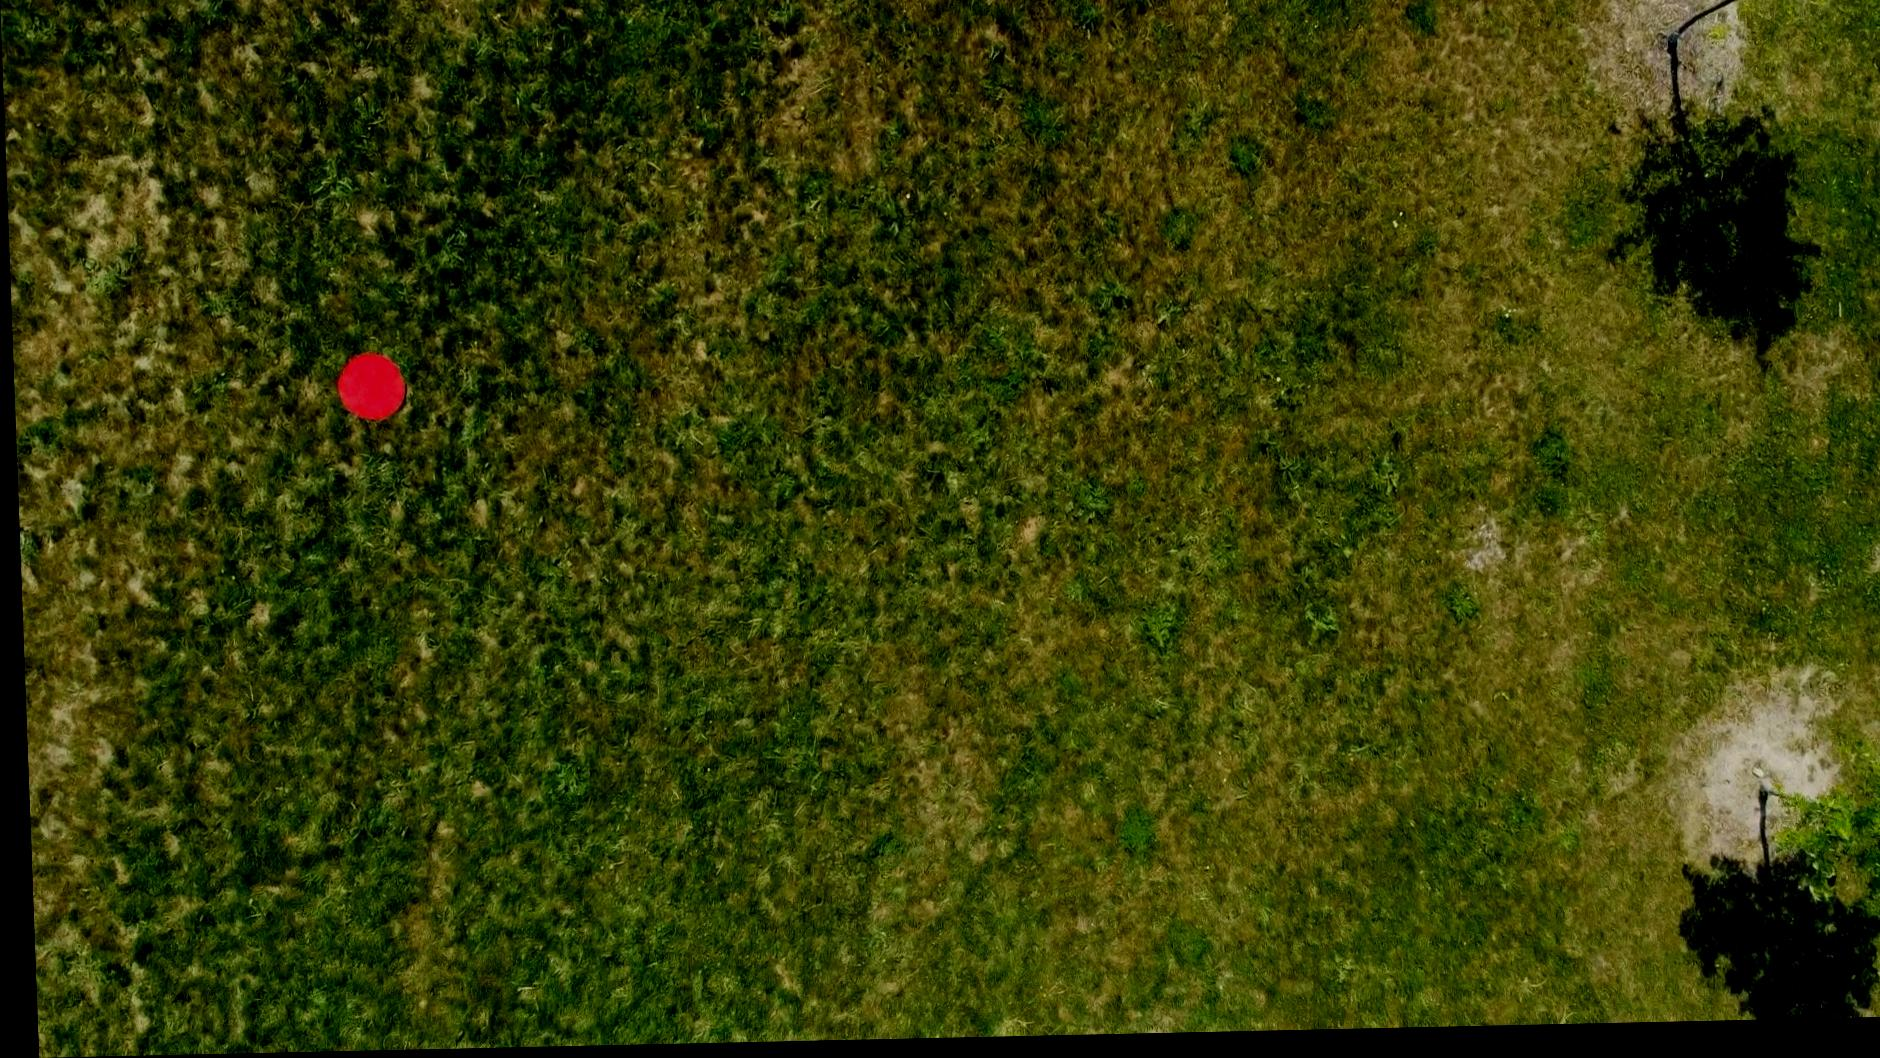Red: (331, 354, 407, 428)
